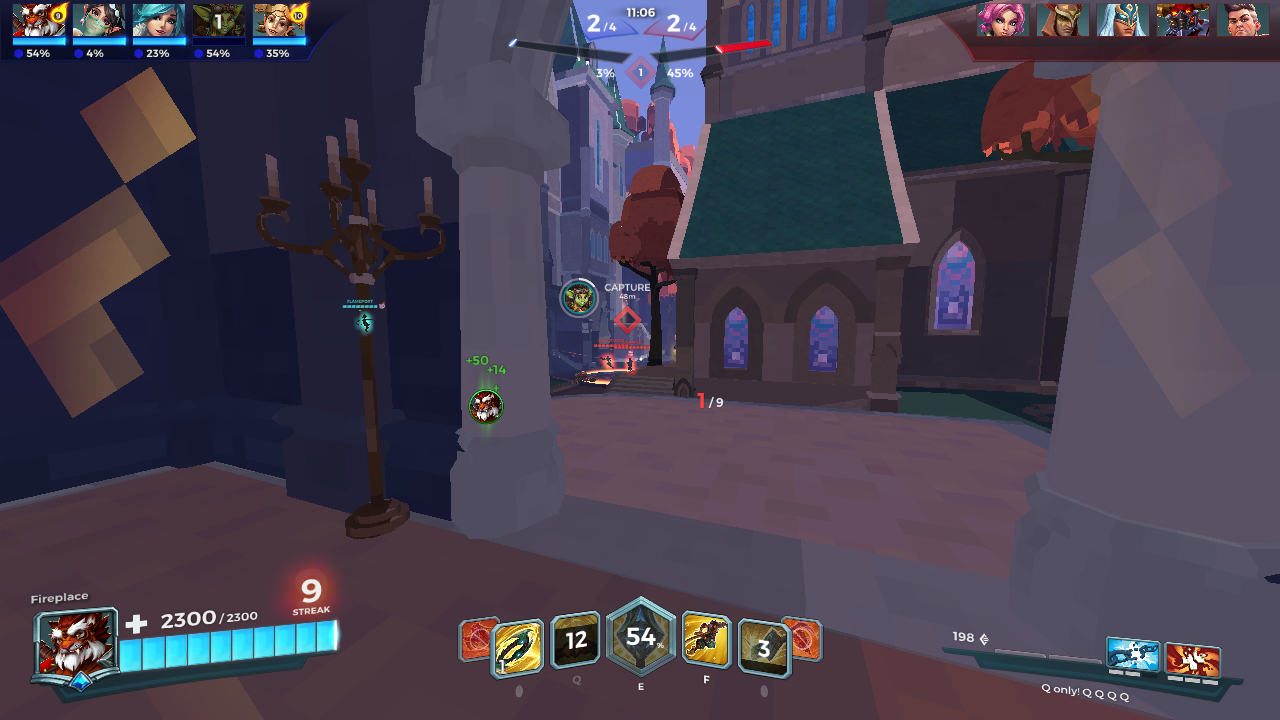model: (596, 354, 617, 373), (626, 356, 637, 377)
